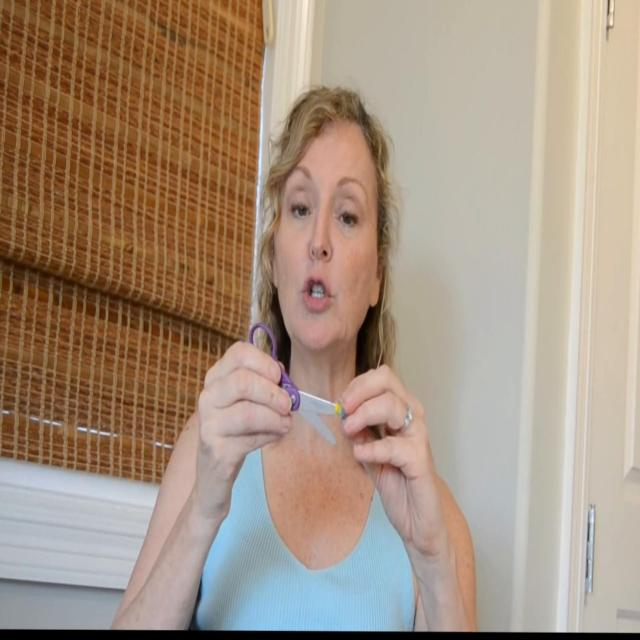scissor: (250, 322, 337, 446)
